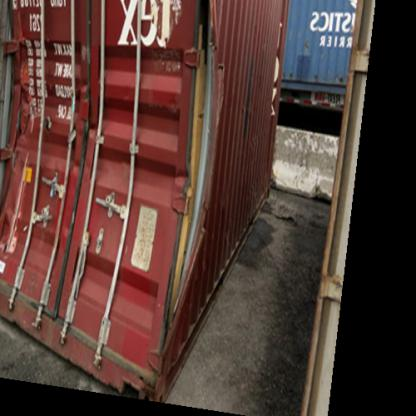Damage: (166, 14, 232, 313)
